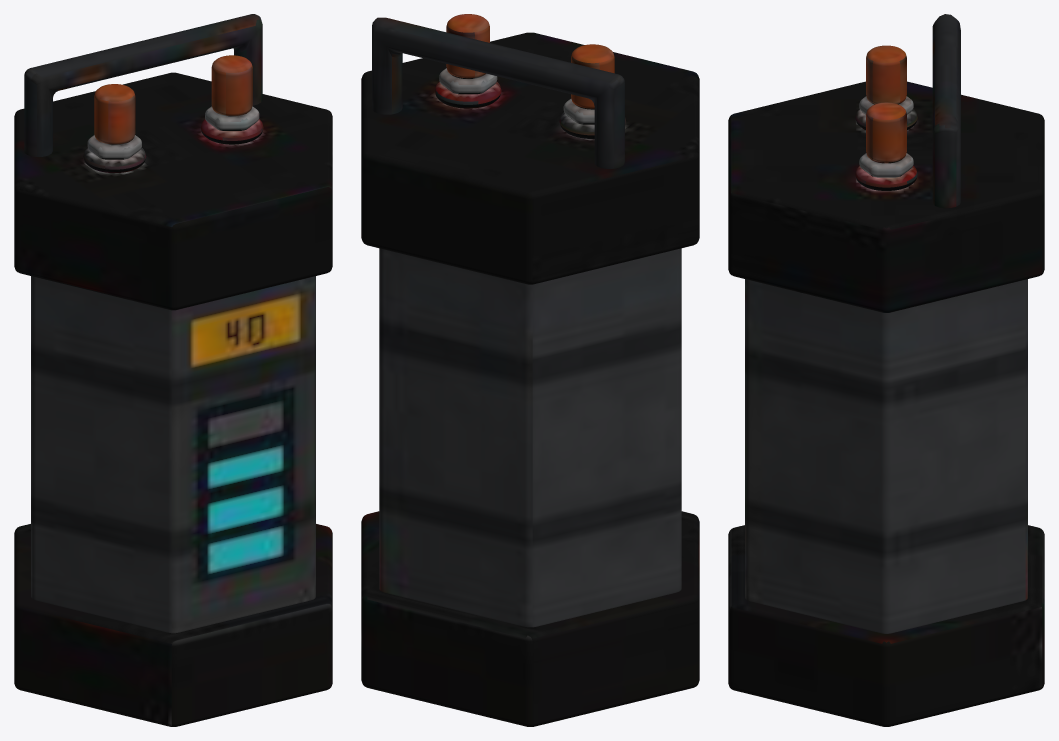
The model's file is power_cell.glb.
3 views of the same model, side by side, from view 1: azimuth 30°, elevation 25°; view 2: azimuth 150°, elevation 25°; view 3: azimuth 270°, elevation 25° (orthographic). The views are drawn at different scales.
Visible parts, largest first — view 1: power_cell; view 2: power_cell; view 3: power_cell.
Boxes of the visible parts, <box> form: power_cell: <box>14,14,332,726</box>; power_cell: <box>361,14,699,726</box>; power_cell: <box>728,14,1044,726</box>.
Bounding box in the file's own units: 0.1506 × 0.268 × 0.1316.
Materials: 1 (1 with a texture image).
